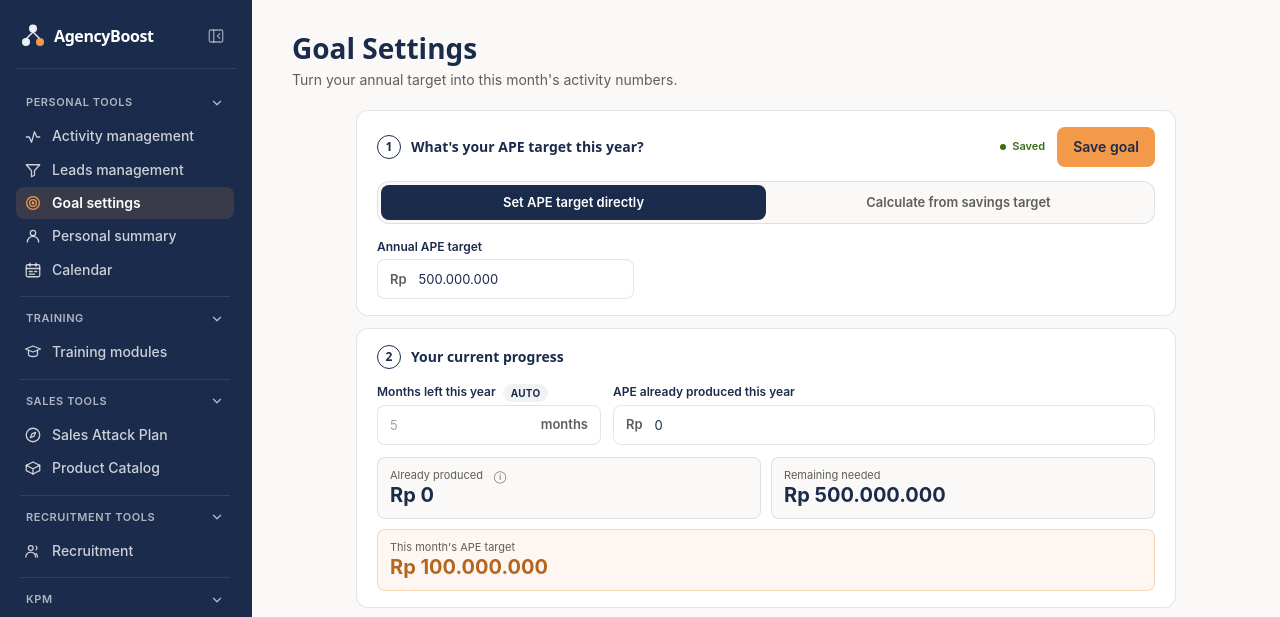
Scenario: Goal Settings (P8-T3) › AC-6 and the states a plan can be in › shows the server’s refusal of an unusable assumption
Click the button "Save goal". click: (1106, 147)
box: [1057, 127, 1155, 167]
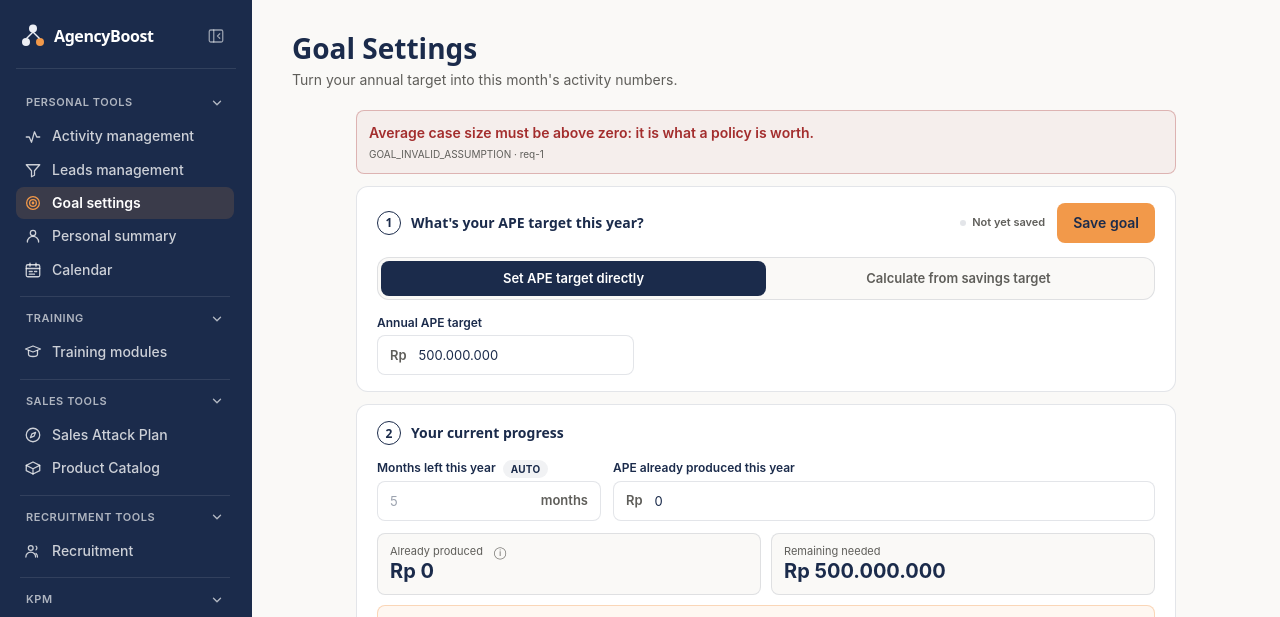
Result: the text "case size must be above zero" is shown at [369, 124, 814, 141]
